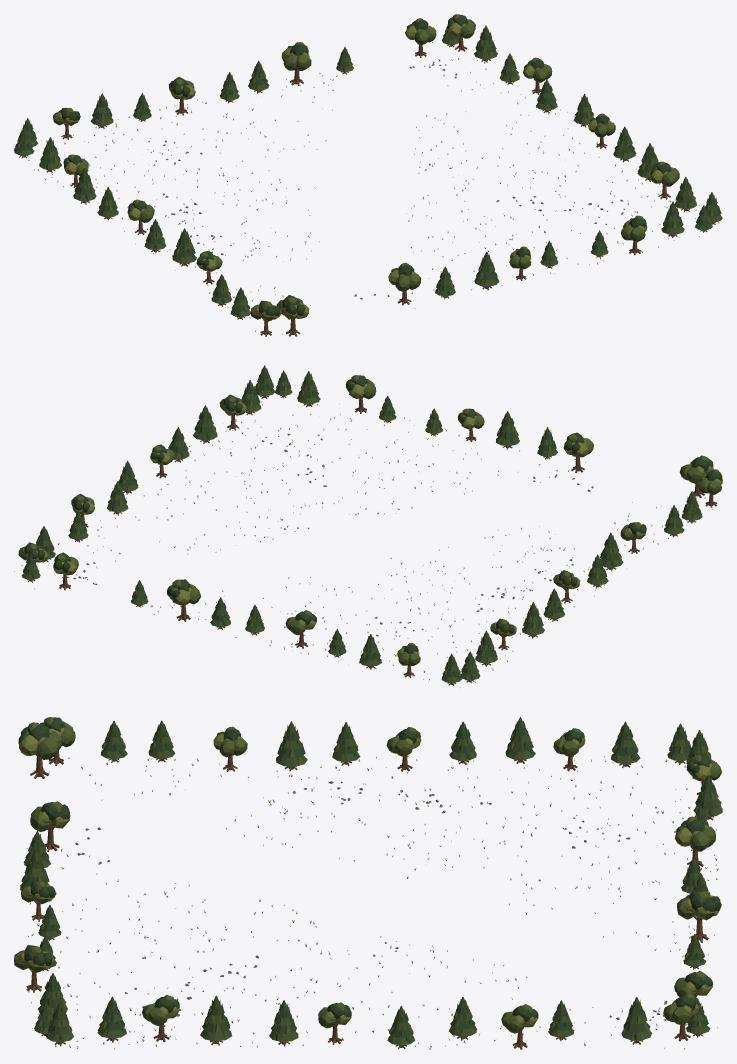
Rendered from world_details.glb.
The picture shows the model from 3 angles, top to bottom: view 1: azimuth 30°, elevation 25°; view 2: azimuth 150°, elevation 25°; view 3: azimuth 270°, elevation 25°; orthographic projection. The views are drawn at different scales.
Parts seen in each view (by area): view 1: Foliage, Timber; view 2: Foliage, Timber; view 3: Foliage, Timber, Stone.
Part boxes in pixels (box(x1,y1,x2,y2)): Foliage: box(14, 14, 722, 334); Timber: box(20, 26, 715, 336); Foliage: box(14, 365, 722, 687); Timber: box(28, 366, 716, 685); Foliage: box(14, 717, 722, 1049); Timber: box(23, 718, 713, 1049); Stone: box(75, 781, 667, 1020).
Size of the model in its own units: 83.92 by 6.64 by 83.89.
